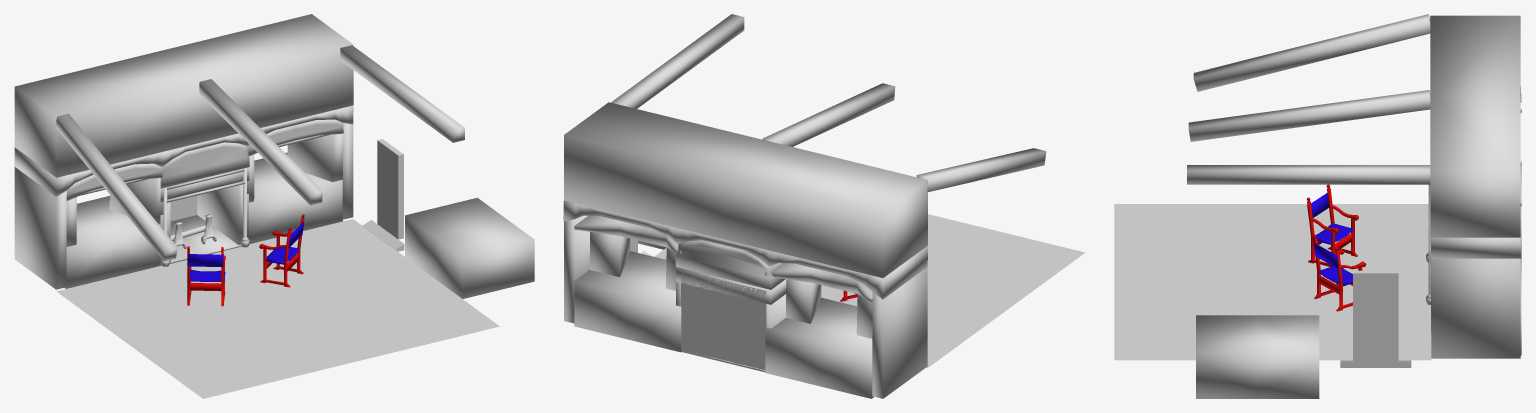
File: ProtoCnMRoom.fbx
3 views of the same model, side by side, from view 1: azimuth 30°, elevation 25°; view 2: azimuth 150°, elevation 25°; view 3: azimuth 270°, elevation 25° (orthographic). The views are drawn at different scales.
Visible parts, largest first — view 1: fireplaceFloor.001, nWall, windowWallD, windowWallD.001, fireplaceWall.001, windowWallLR, beams, beams.002, nWallTransition, beams.001, fireplaceRoof, windowArch (+10 smaller); view 2: nWall, windowWallD, fireplaceFloor.001, fireplaceWall.001, fireplaceWallB, nWallTransition, windowWallLR, fireplaceRoof, beams.001, windowWallU, beams.002, beams (+2 smaller); view 3: fireplaceFloor.001, nWall, windowWallD.001, fireplaceWall.001, beams.002, beams, beams.001, door, nWallTransition, leg1.001, leg1, seatLeather.001 (+2 smaller).
Boxes of the visible parts, <box> form: fireplaceFloor.001: <box>56,219,499,398</box>; nWall: <box>14,14,353,177</box>; windowWallD: <box>64,152,342,288</box>; windowWallD.001: <box>405,197,534,298</box>; fireplaceWall.001: <box>14,123,353,289</box>; windowWallLR: <box>66,133,343,246</box>; beams: <box>55,113,177,261</box>; beams.002: <box>199,79,322,205</box>; nWallTransition: <box>14,105,353,196</box>; beams.001: <box>340,45,464,142</box>; fireplaceRoof: <box>160,142,249,188</box>; windowArch: <box>66,119,343,200</box>; nWall: <box>564,102,927,277</box>; windowWallD: <box>574,251,873,398</box>; fireplaceFloor.001: <box>654,214,1085,367</box>; fireplaceWall.001: <box>564,215,927,398</box>; fireplaceWallB: <box>681,270,766,372</box>; nWallTransition: <box>563,200,927,299</box>; windowWallLR: <box>589,232,872,338</box>; fireplaceRoof: <box>675,240,785,289</box>; beams.001: <box>611,14,744,108</box>; windowWallU: <box>574,215,872,301</box>; beams.002: <box>762,83,895,146</box>; beams: <box>916,148,1046,192</box>; fireplaceFloor.001: <box>1114,204,1431,360</box>; nWall: <box>1430,15,1520,237</box>; windowWallD.001: <box>1196,315,1319,398</box>; fireplaceWall.001: <box>1430,250,1520,358</box>; beams.002: <box>1188,90,1430,141</box>; beams: <box>1193,14,1430,91</box>; beams.001: <box>1187,165,1430,184</box>; door: <box>1353,270,1398,363</box>; nWallTransition: <box>1430,86,1521,258</box>; leg1.001: <box>1306,184,1357,266</box>; leg1: <box>1313,235,1362,311</box>; seatLeather.001: <box>1313,223,1352,244</box>.
Bounding box in the file's own units: 936 × 437 × 828.
